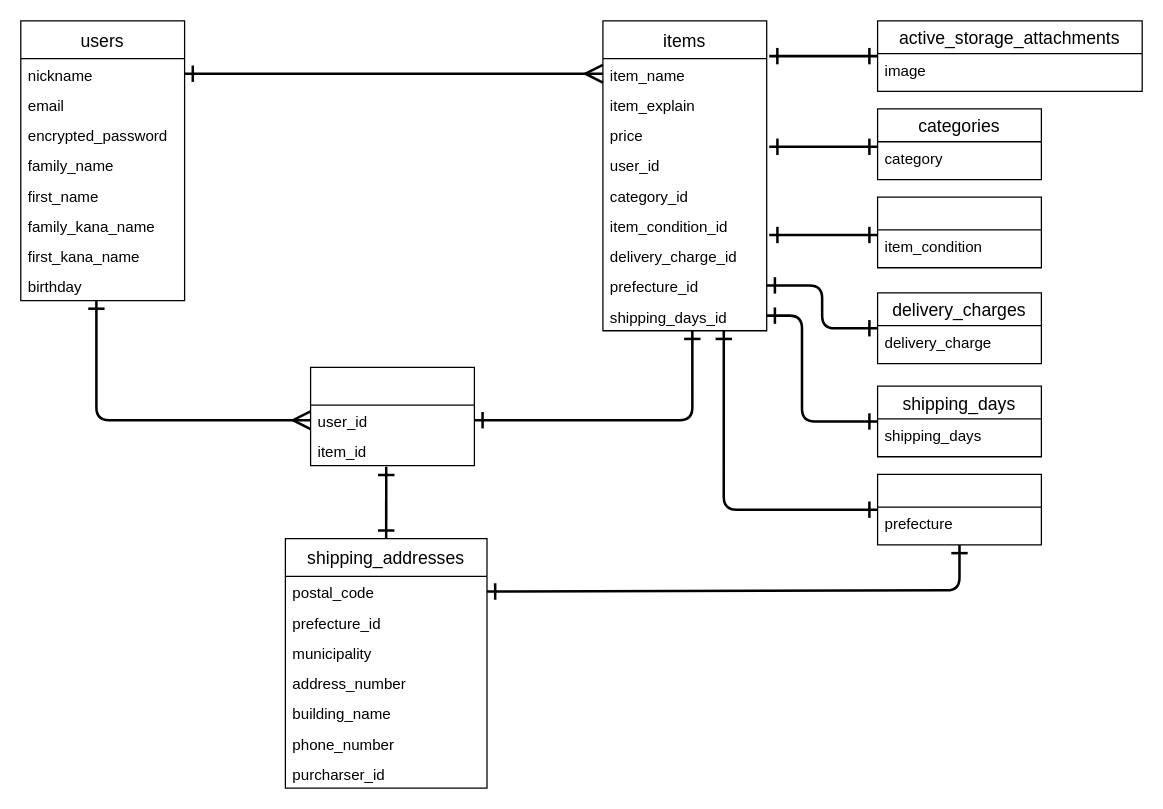
Some shapes in this 1163 by 809 pixel diagram are drawn without their labels. Here are the shapes that lost their labels. From the top down, the box of each, then its label:
(876, 196, 1041, 268): item_conditions
(309, 366, 474, 466): purcharsers
(876, 473, 1041, 545): prefectures
